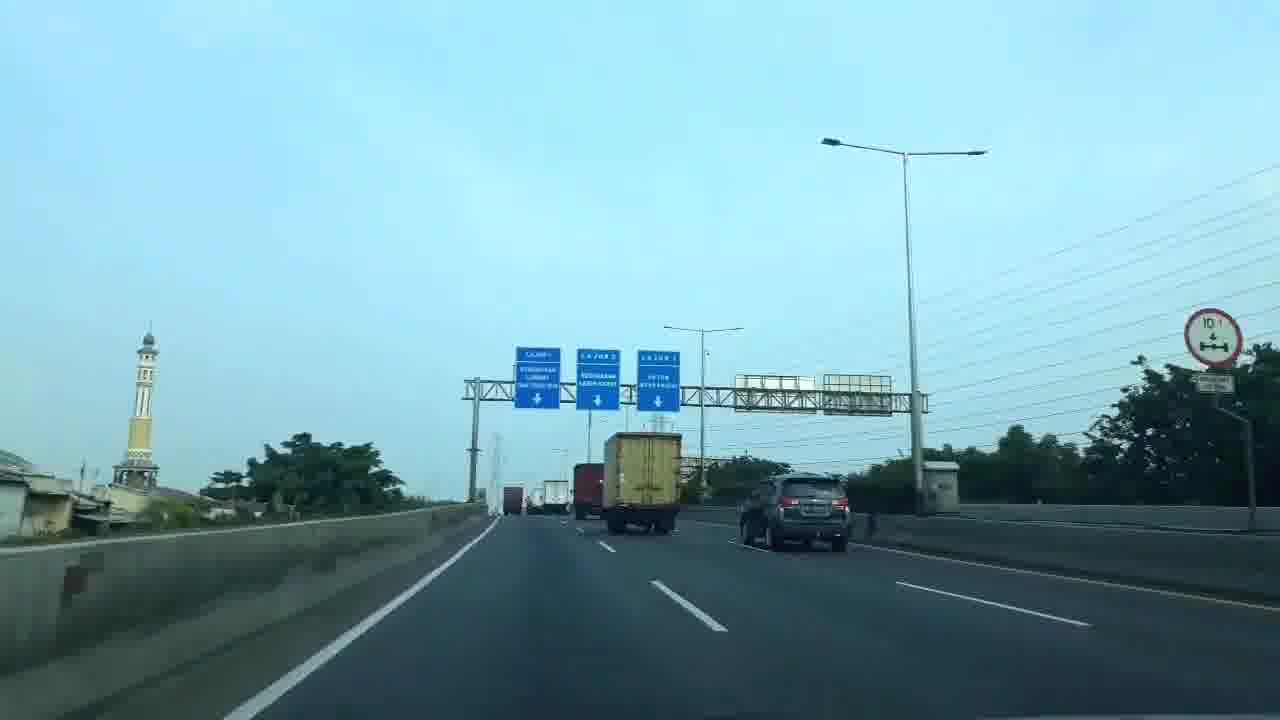plate_positive: (804, 505, 825, 513)
